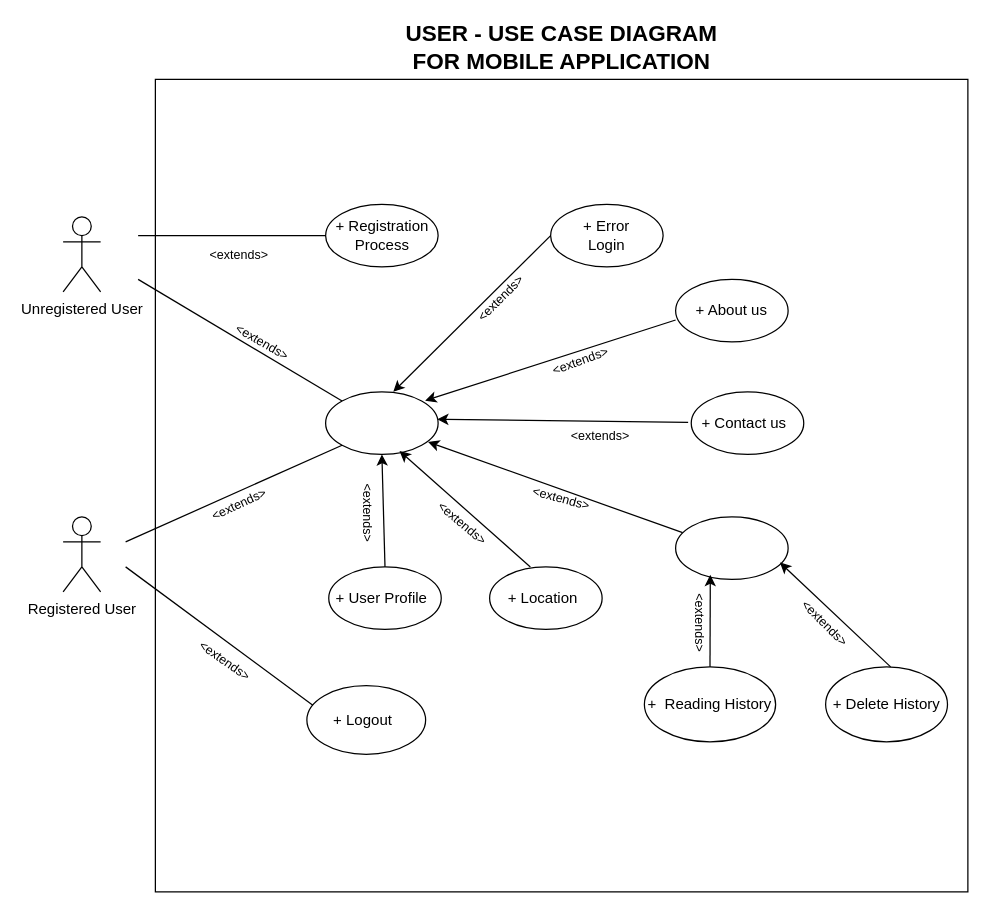
This 990x914 diagram has some shape labels left out. Each missing label, with the centre of its shape:
+ Login: the point at 381,422
+ View Readings: the point at 731,547
